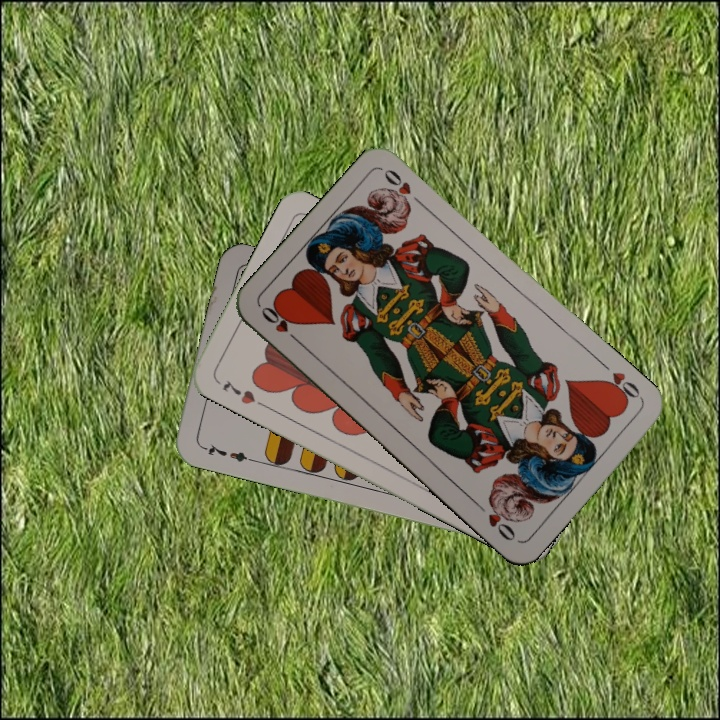E7: (197, 440, 256, 465)
H7: (218, 376, 268, 410)
HO: (256, 302, 304, 348), (597, 367, 645, 407)
